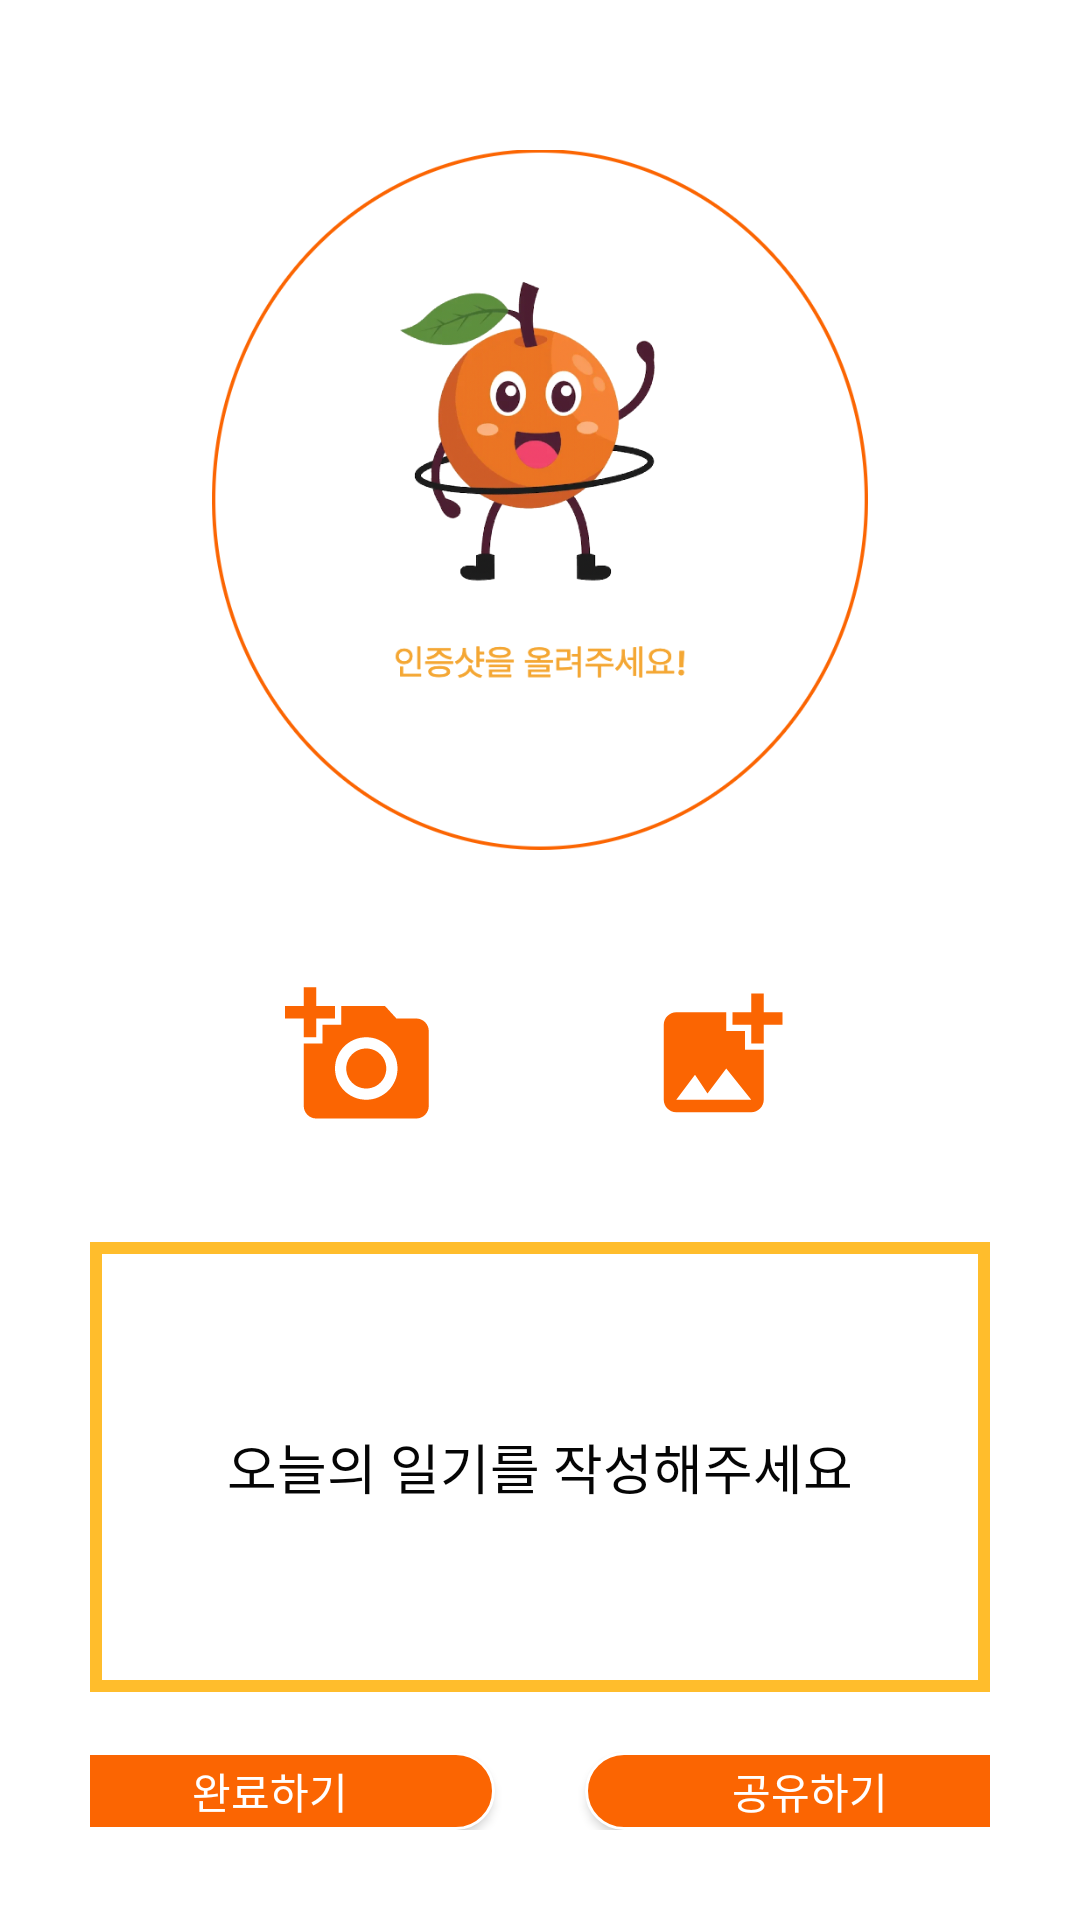

Screen size 1080 x 1920. Icon name, then its center in pixels as (x=x, y=y):
add photo: (x=357, y=1053)
add photo alternate: (x=723, y=1053)
